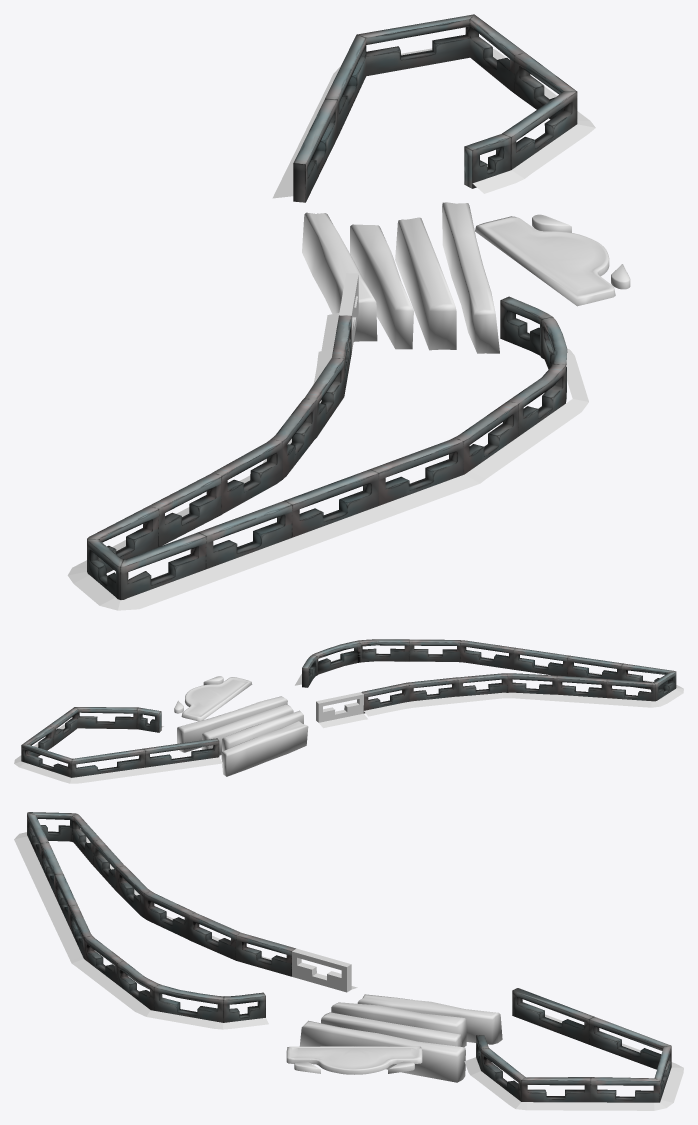
File: BRUME_Bordure_CentreRiver.fbx
3 views of the same model, one above another, from view 1: azimuth 30°, elevation 25°; view 2: azimuth 150°, elevation 25°; view 3: azimuth 270°, elevation 25° (orthographic). The views are drawn at different scales.
Visible parts, largest first — view 1: BRUME_Bordure_River.005, BRUME_Pont_River, BRUME_Bordure_River.001, BRUME_BordureRiver_Detail1, BRUME_BordureRiver_Detail2, BRUME_Bordure_River.002; view 2: BRUME_Bordure_River.005, BRUME_Pont_River, BRUME_Bordure_River.001, BRUME_BordureRiver_Detail1, BRUME_Bordure_River.002, BRUME_Bordure_River.006; view 3: BRUME_Bordure_River.005, BRUME_Pont_River, BRUME_Bordure_River.001, BRUME_BordureRiver_Detail1, BRUME_Bordure_River.002, BRUME_BordureRiver_Detail2.
Boxes of the visible parts, box(x1,y1,x2,y2) form: BRUME_Bordure_River.005: box(87, 14, 577, 599); BRUME_Pont_River: box(302, 202, 499, 353); BRUME_Bordure_River.001: box(67, 48, 595, 610); BRUME_BordureRiver_Detail1: box(475, 216, 615, 306); BRUME_BordureRiver_Detail2: box(532, 214, 630, 289); BRUME_Bordure_River.002: box(339, 273, 358, 352); BRUME_Bordure_River.005: box(21, 639, 676, 777); BRUME_Pont_River: box(177, 696, 308, 776); BRUME_Bordure_River.001: box(14, 653, 683, 783); BRUME_BordureRiver_Detail1: box(181, 677, 252, 721); BRUME_Bordure_River.002: box(316, 692, 363, 722); BRUME_Bordure_River.006: box(319, 713, 367, 728); BRUME_Bordure_River.005: box(27, 812, 671, 1102); BRUME_Pont_River: box(299, 994, 502, 1082); BRUME_Bordure_River.001: box(14, 831, 683, 1110); BRUME_BordureRiver_Detail1: box(286, 1046, 422, 1074); BRUME_Bordure_River.002: box(292, 948, 351, 992); BRUME_BordureRiver_Detail2: box(294, 1061, 414, 1073).
Bounding box in the file's own units: 23.68 × 2.12 × 23.95.
